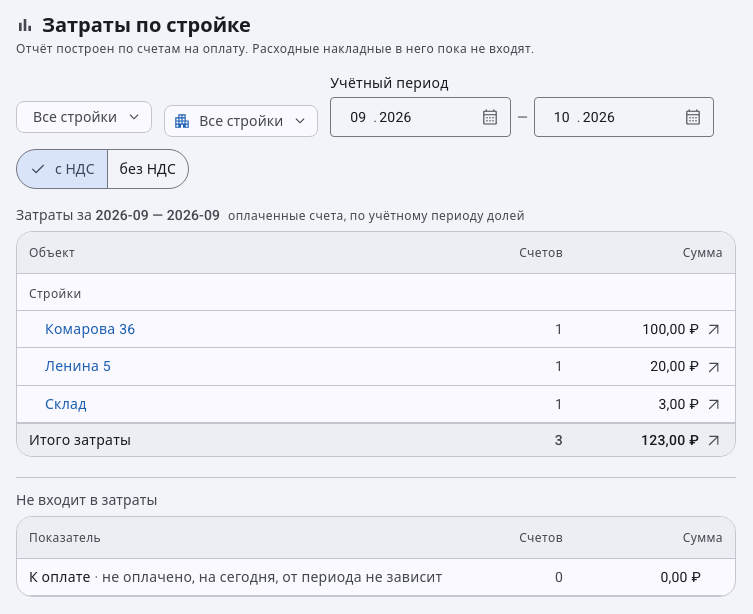
Test: учётный период › поправка при уходе на «без НДС» не теряется щелчком по ней
Expected: the row "Итого затраты 3 123,00 ₽" is shown, [17,423,735,456]
Replace the text in the 2nd field named "месяц" with "08" at (562, 117), box [547,107,577,127]
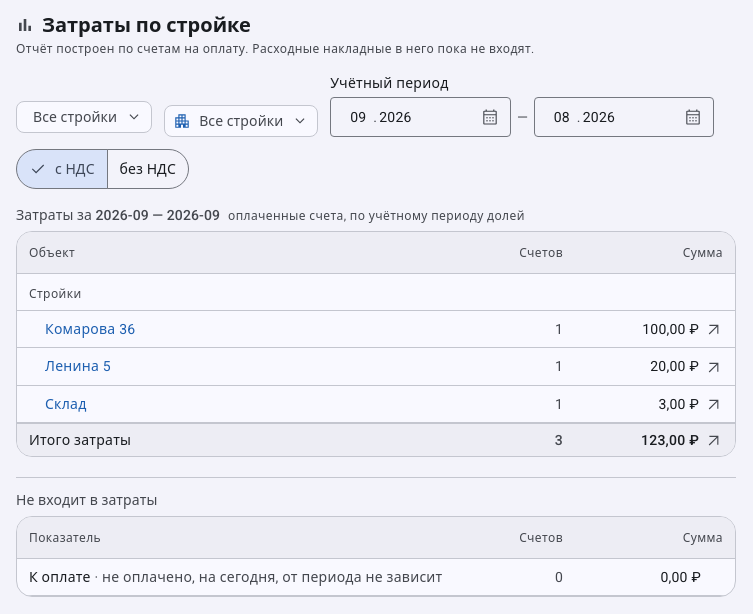
Click the radio button labelled "без НДС".
click(148, 169)  # box [107,149,189,189]
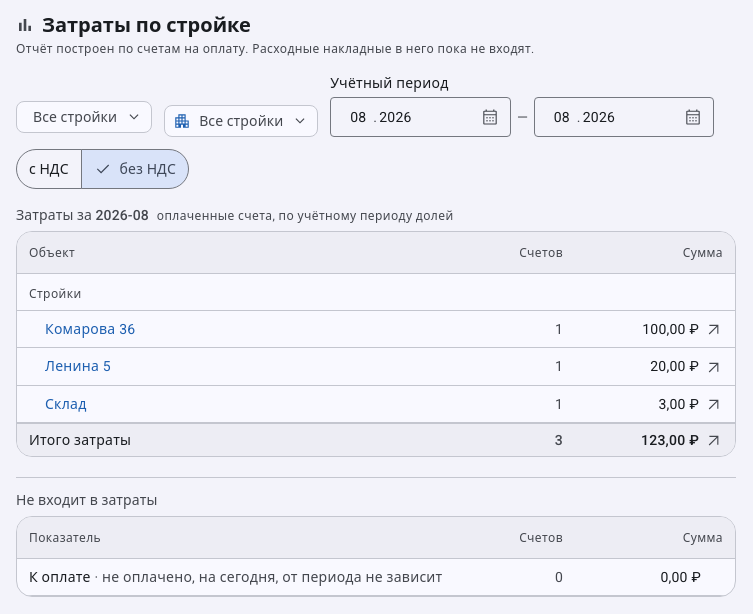
Expected: the 1st field named "месяц" holds "08", [343,107,373,127]
